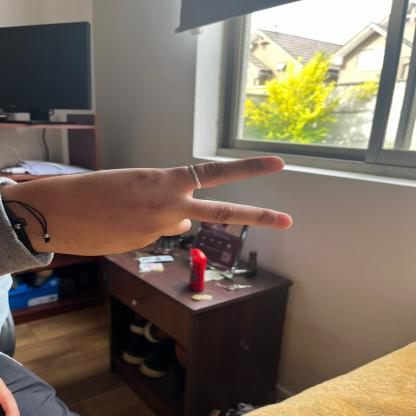H: (6, 144, 298, 260)
